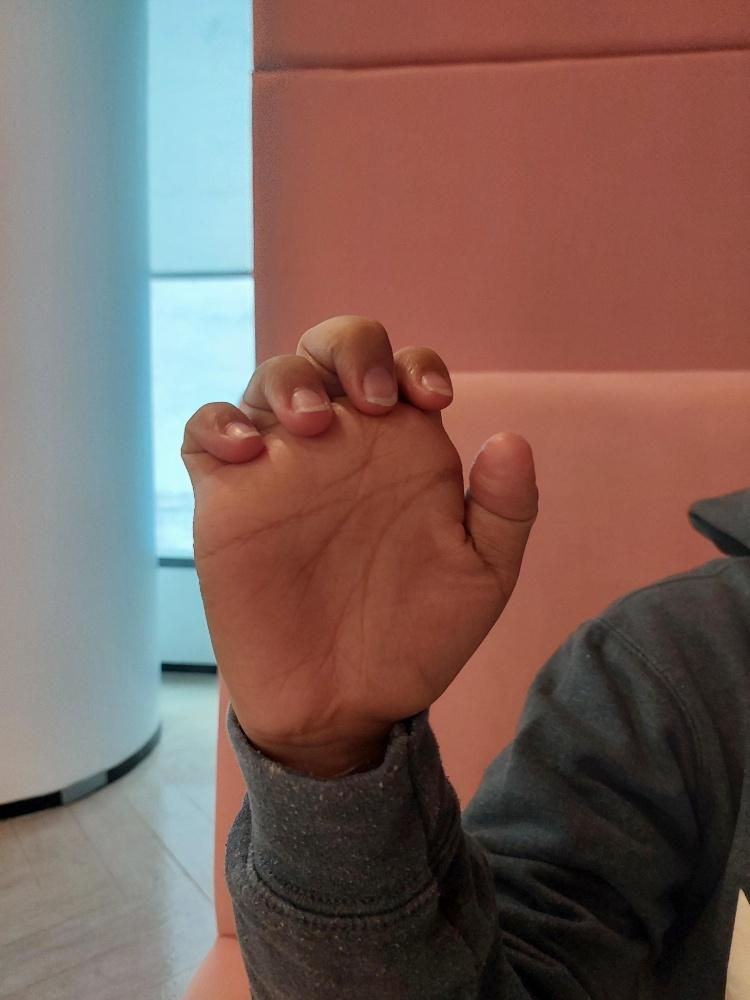e: (170, 302, 546, 762)
